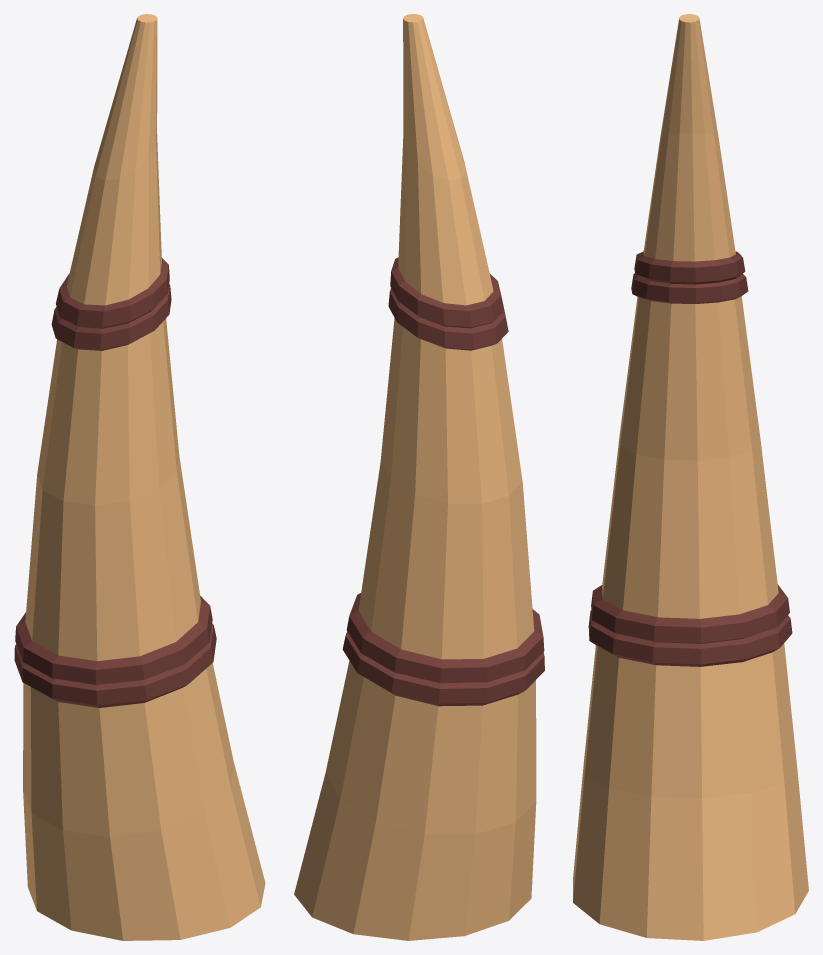
The model's file is Tusk 04.fbx.
3 views of the same model, side by side, from view 1: azimuth 30°, elevation 25°; view 2: azimuth 150°, elevation 25°; view 3: azimuth 270°, elevation 25° (orthographic).
Visible parts, largest first — view 1: Tusk 04; view 2: Tusk 04; view 3: Tusk 04.
Part boxes in pixels (left/top/right/bottom): Tusk 04: left=14, top=14, right=265, bottom=940; Tusk 04: left=294, top=14, right=544, bottom=940; Tusk 04: left=573, top=14, right=808, bottom=940.
Bounding box in the file's own units: 75.55 × 285 × 69.76.
